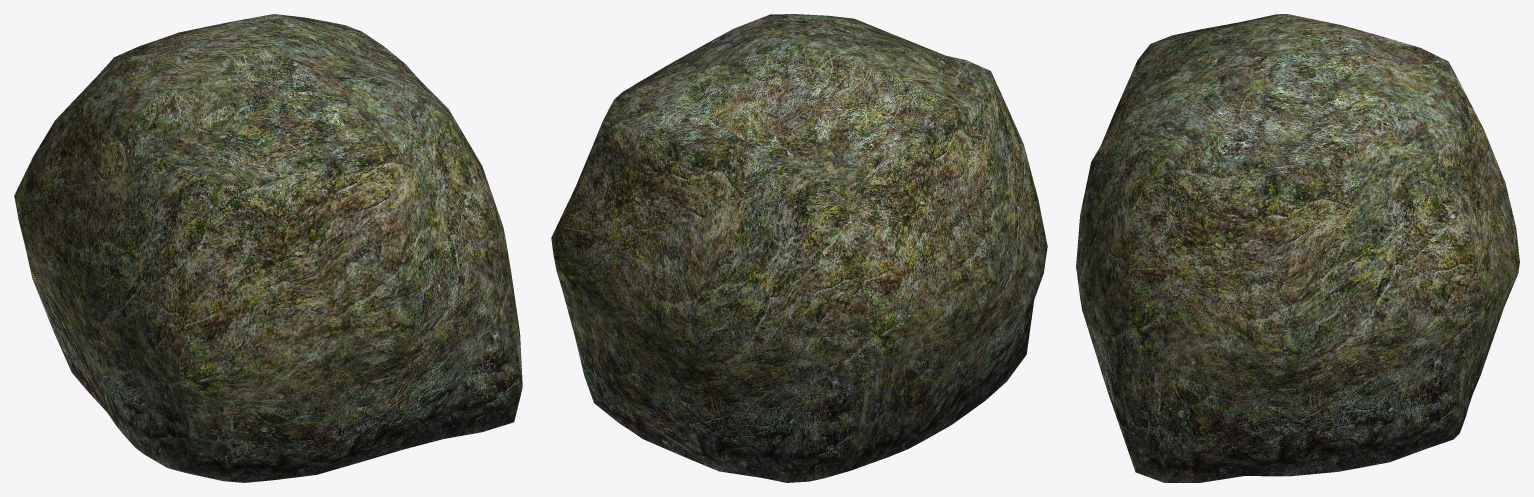
File: thm_all_cavewall_damprock_a1_l0.fbx
3 renders of one model, left to right at view 1: azimuth 30°, elevation 25°; view 2: azimuth 150°, elevation 25°; view 3: azimuth 270°, elevation 25°, orthographic. The views are drawn at different scales.
Visible parts, largest first — view 1: mesh_node; view 2: mesh_node; view 3: mesh_node.
Part boxes in pixels (x1,y1,x2,y2): mesh_node: (14, 14, 522, 482); mesh_node: (551, 14, 1047, 482); mesh_node: (1076, 14, 1519, 482).
Size of the model in its own units: 11.24 by 10.79 by 11.11.
